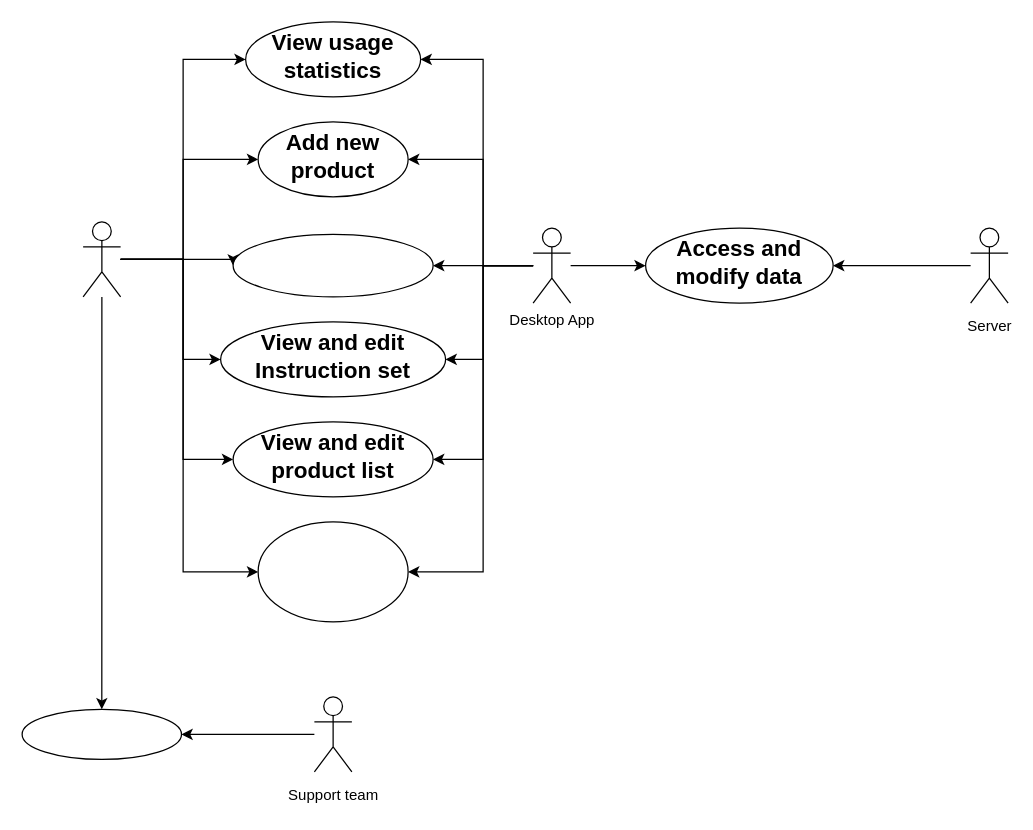
The diagram is 1033 pixels wide and 830 high, and some of its shapes have lost their labels. Here are the shapes that lost their labels. From the top down, the centre of each, then its label:
At pixel 101 259: "Manufacturer".
At pixel 332 265: "View and edit model".
At pixel 332 571: "Review Feedback system".
At pixel 101 733: "Report errors".
